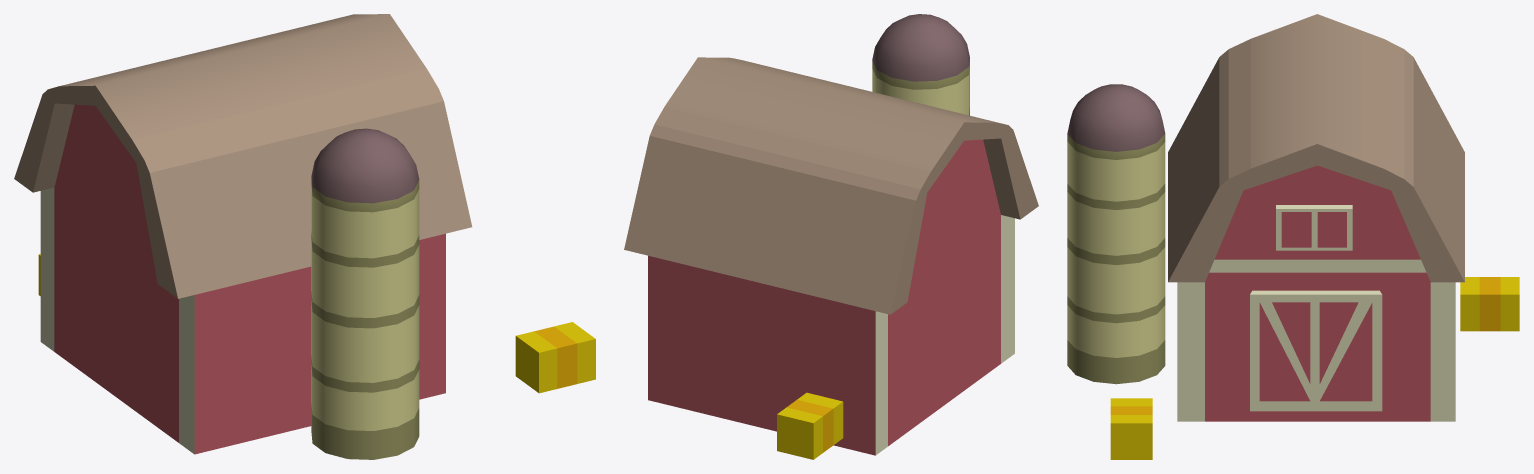
File: Farm.fbx
The picture shows the model from 3 angles, left to right: view 1: azimuth 30°, elevation 25°; view 2: azimuth 150°, elevation 25°; view 3: azimuth 270°, elevation 25°; orthographic projection. The views are drawn at different scales.
Visible parts, largest first — view 1: Farm; view 2: Farm; view 3: Farm.
Part boxes in pixels (x1=…): Farm: x1=14, y1=14, x2=595, y2=459; Farm: x1=624, y1=14, x2=1038, y2=459; Farm: x1=1067, y1=14, x2=1519, y2=459.
Size of the model in its own units: 348 by 274 by 391.
